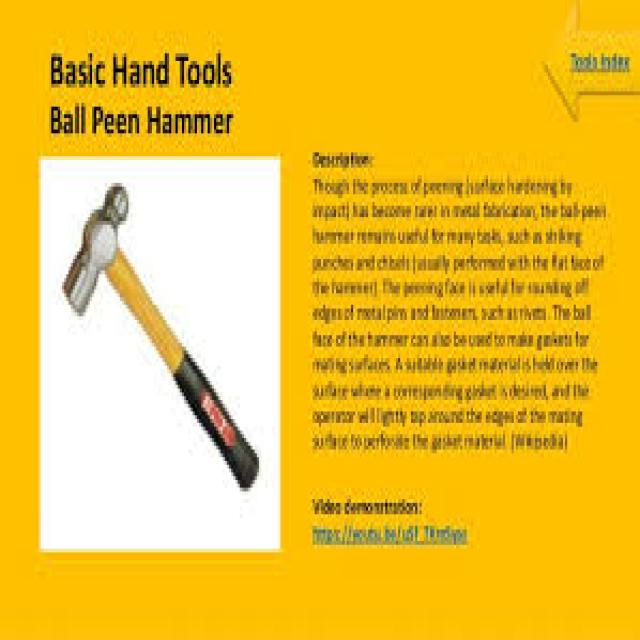hammer: (52, 157, 268, 502)
